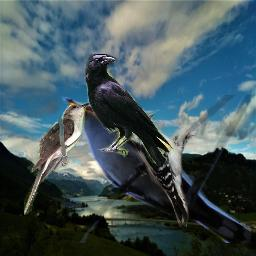Crow: (85, 54, 174, 168)
Cuckoo: (61, 95, 251, 243), (24, 102, 91, 215)
Woodpecker: (124, 113, 196, 227)
